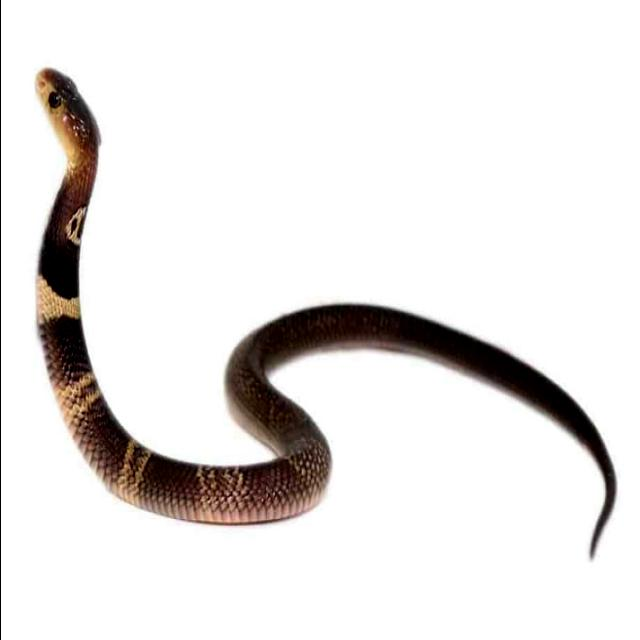Naja kaouthia: (36, 69, 616, 555)
